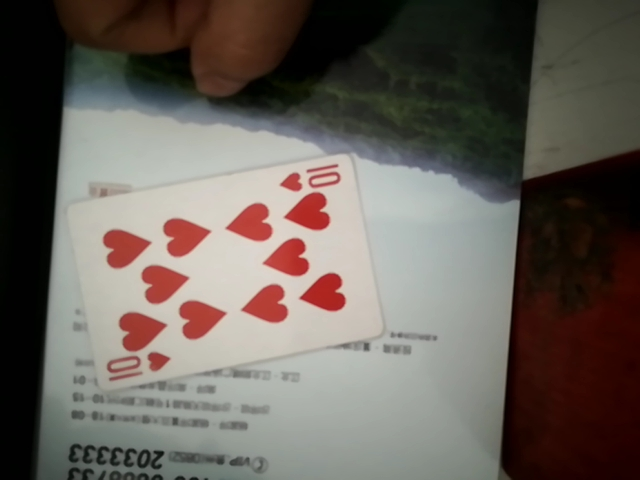hx 10: (63, 152, 387, 394)
